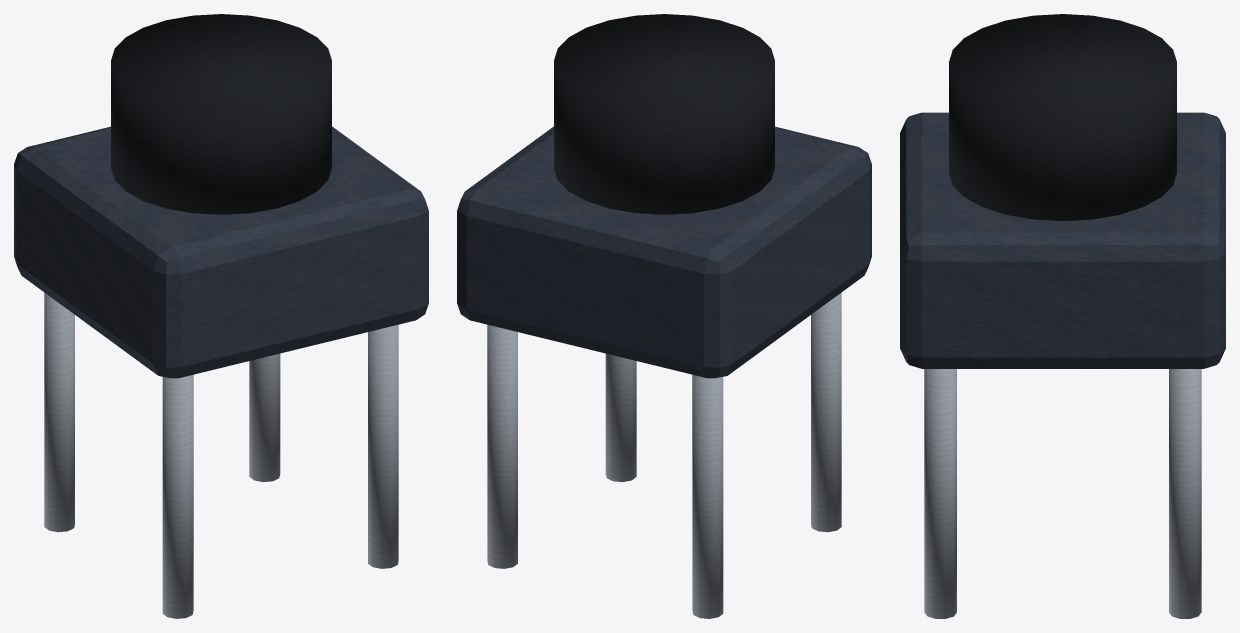
File: Pushbutton.obj
3 renders of one model, left to right at view 1: azimuth 30°, elevation 25°; view 2: azimuth 150°, elevation 25°; view 3: azimuth 270°, elevation 25°, orthographic. The views are drawn at different scales.
Parts seen in each view (by area): view 1: Housing, Cap, Pin, Pin.002, Pin.001, Pin.003; view 2: Housing, Cap, Pin.001, Pin.003, Pin, Pin.002; view 3: Housing, Cap, Pin.002, Pin.003.
Part boxes in pixels (left/top/right/bottom): Housing: left=14, top=126, right=428, bottom=378; Cap: left=111, top=14, right=331, bottom=214; Pin: left=162, top=374, right=193, bottom=618; Pin.002: left=368, top=324, right=398, bottom=568; Pin.001: left=44, top=292, right=74, bottom=532; Pin.003: left=249, top=353, right=280, bottom=482; Housing: left=457, top=126, right=871, bottom=378; Cap: left=554, top=14, right=774, bottom=214; Pin.001: left=692, top=374, right=723, bottom=618; Pin.003: left=487, top=324, right=517, bottom=568; Pin: left=811, top=292, right=841, bottom=532; Pin.002: left=605, top=353, right=636, bottom=482; Housing: left=900, top=112, right=1225, bottom=368; Cap: left=949, top=14, right=1176, bottom=221; Pin.002: left=924, top=369, right=956, bottom=618; Pin.003: left=1169, top=369, right=1201, bottom=618.
Bounding box in the file's own units: 0.12 × 0.2025 × 0.12.
